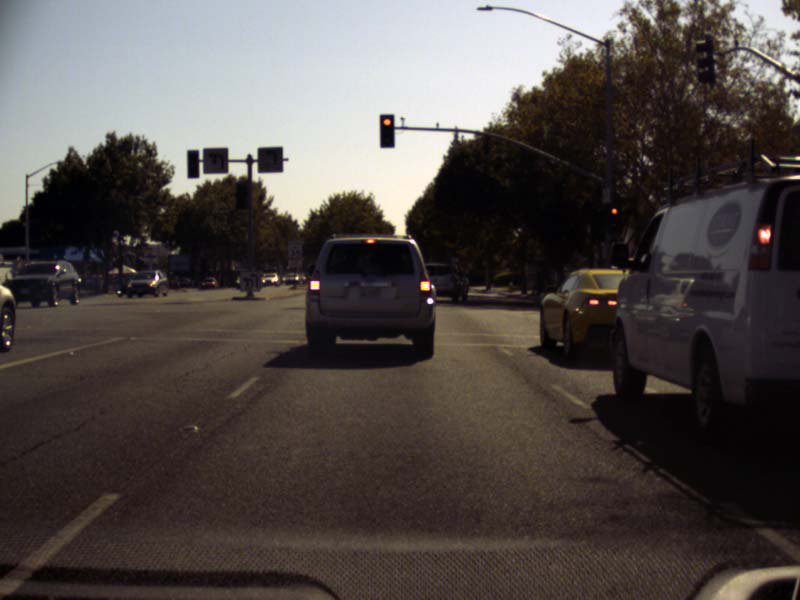Red: (379, 114, 394, 148), (607, 204, 621, 234)
